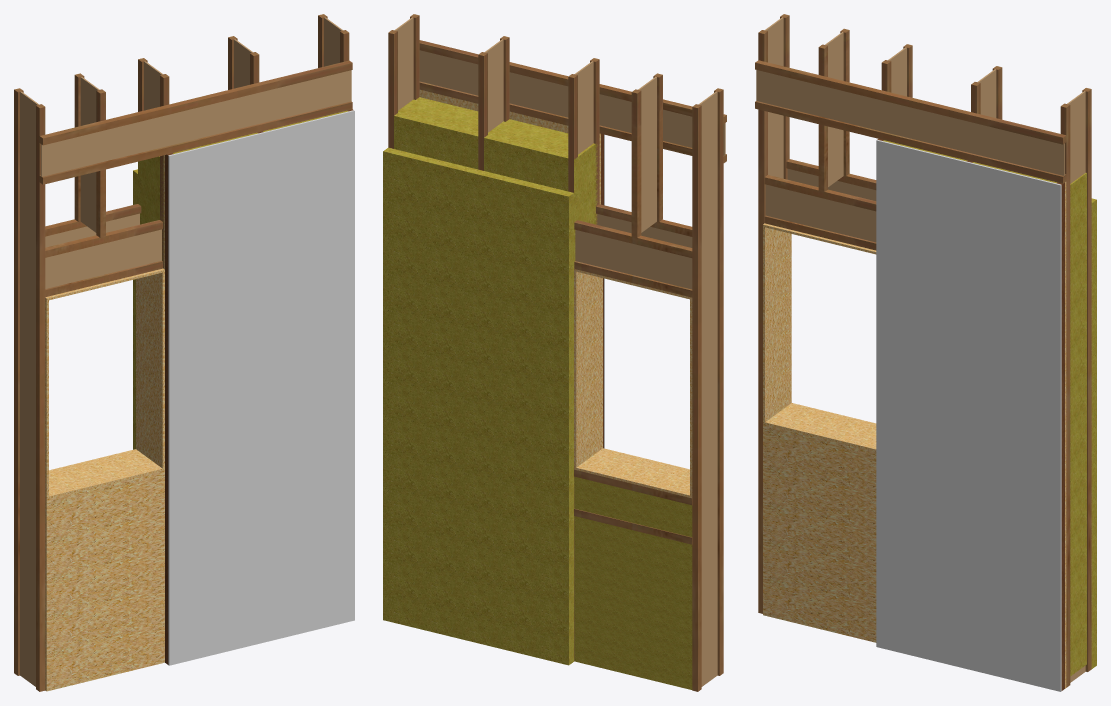
File: threejstest.glb
The picture shows the model from 3 angles, left to right: view 1: azimuth 30°, elevation 25°; view 2: azimuth 150°, elevation 25°; view 3: azimuth 330°, elevation 25°; orthographic projection.
Parts seen in each view (by area): view 1: gips, G-__555609, JoistBody.004, JoistBody.005, studFlens.011, G-__555573, JoistBody.009, studFlens.010, studFlens.008, G-__555600, studFlens.009, 38mm (+15 smaller); view 2: Celit, iso.001, iso, JoistBody.005, JoistBody.004, studFlens.010, G-__555573, studFlens.011, JoistBody.003, G-__555600, JoistBody.010, studFlens.008 (+20 smaller); view 3: gips, G-__555609, JoistBody.004, iso, G-__555582, JoistBody.009, studFlens.008, studFlens.011, studFlens.005, studFlens.004, G-__555600, Celit (+16 smaller).
Part boxes in pixels (x1,y1,x2,y2): gips: (168,110,354,665); G-__555609: (45,470,164,691); JoistBody.004: (41,70,351,176); JoistBody.005: (20,91,38,686); studFlens.011: (36,104,45,691); G-__555573: (136,272,164,468); JoistBody.009: (45,229,161,288); studFlens.010: (14,88,23,675); studFlens.008: (39,60,352,145); G-__555600: (45,449,164,499); studFlens.009: (39,101,352,184); 38mm: (165,153,173,664); Celit: (383,147,573,665); iso.001: (574,476,692,689); iso: (394,97,599,518); JoistBody.005: (698,91,717,686); JoistBody.004: (419,50,725,155); studFlens.010: (692,104,701,691); G-__555573: (574,271,602,467); studFlens.011: (714,88,723,675); JoistBody.003: (575,230,692,289); G-__555600: (574,448,692,498); JoistBody.010: (638,76,656,232); studFlens.008: (419,40,726,123); gips: (876,139,1061,691); G-__555609: (763,424,876,642); JoistBody.004: (756,70,1064,175); iso: (1070,173,1086,676); G-__555582: (763,227,791,422); JoistBody.009: (765,184,876,242); studFlens.008: (755,60,1066,144); studFlens.011: (758,30,767,613); studFlens.005: (1060,103,1070,687); studFlens.004: (1082,88,1091,671); G-__555600: (763,403,876,451); Celit: (1091,198,1096,668).
Size of the model in its own units: 2.1 by 3.78 by 0.425.
Materials: 6 (4 with a texture image).
